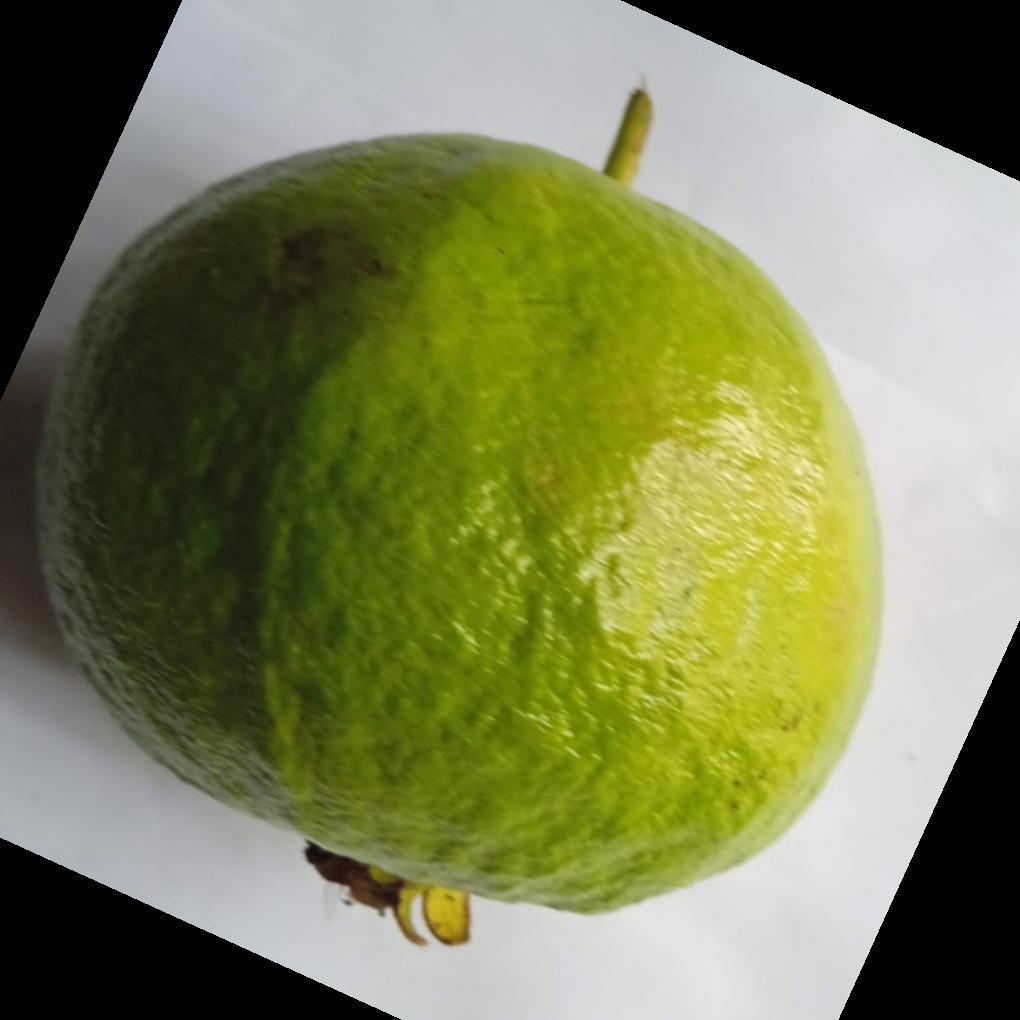FreshGuava: (31, 97, 886, 921)
